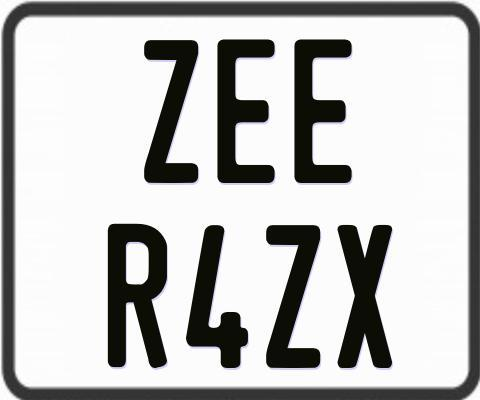4: (186, 225, 251, 369)
E: (217, 39, 278, 186), (291, 36, 351, 180)
R: (108, 221, 168, 365)
X: (338, 222, 392, 368)
Z: (266, 224, 326, 372), (144, 38, 199, 187)
